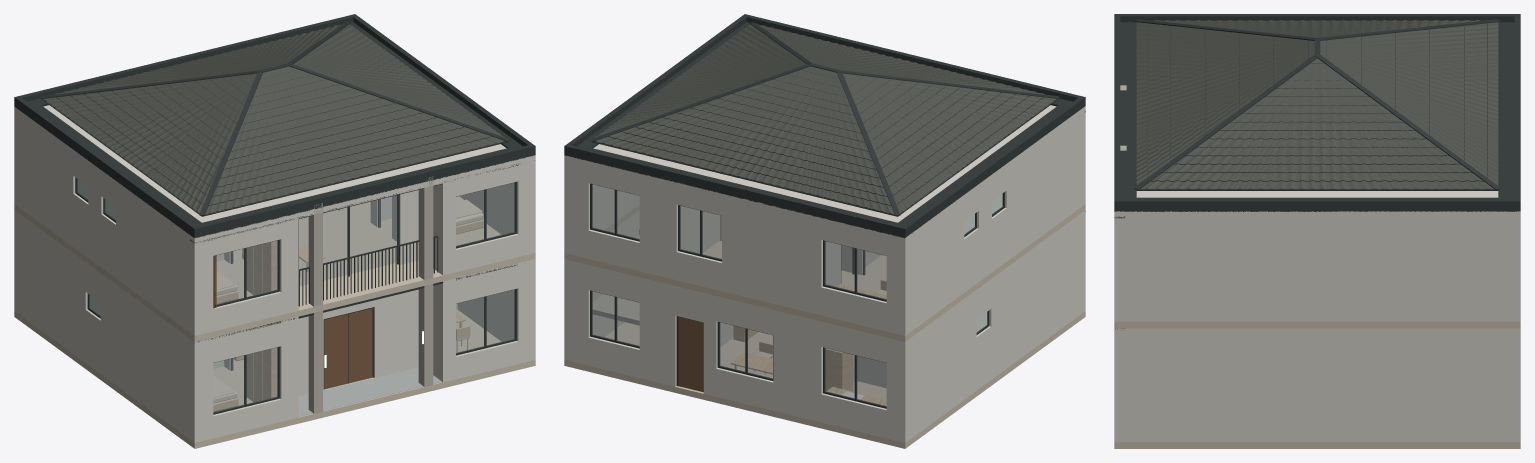
Rendered from house-option2-tiled.glb.
The picture shows the model from 3 angles, left to right: view 1: azimuth 30°, elevation 25°; view 2: azimuth 150°, elevation 25°; view 3: azimuth 270°, elevation 25°; orthographic projection. The views are drawn at different scales.
Parts seen in each view (by area): view 1: roof/mesh10/ceramic tile surface 1, roof/mesh11/ceramic tile surface 2, floor1/0515/left exterior, floor2/0001/upper slab west, floor2/0528/left exterior, floor1/0512/left exterior, roof/mesh12/ceramic tile surface 3, roof/0454/closed upper ceiling slab, floor2/0522/left exterior, floor1/0000/ground floor allowance, floor2/0197/D06 glass, roof/mesh9/ceramic tile surface 0 (+49 smaller); view 2: roof/mesh9/ceramic tile surface 0, roof/mesh11/ceramic tile surface 2, floor2/0146/rear exterior, floor1/0515/left exterior, floor2/0528/left exterior, floor1/0512/left exterior, roof/mesh12/ceramic tile surface 3, roof/0454/closed upper ceiling slab, floor1/0000/ground floor allowance, floor2/0522/left exterior, floor1/0073/rear exterior, roof/mesh10/ceramic tile surface 1 (+53 smaller); view 3: floor1/0069/right exterior, floor2/0142/right exterior, roof/mesh12/ceramic tile surface 3, roof/mesh9/ceramic tile surface 0, roof/mesh10/ceramic tile surface 1, roof/0458/inset eave fascia, roof/0454/closed upper ceiling slab, roof/mesh11/ceramic tile surface 2, roof/0459/perimeter gutter graphic allowance, roof/0460/perimeter gutter graphic allowance, floor1/0000/ground floor allowance, roof/0457/inset eave fascia (+10 smaller).
Boxes of the visible parts, box(x1,y1,x2,y2) form: roof/mesh10/ceramic tile surface 1: box(205, 66, 506, 215); roof/mesh11/ceramic tile surface 2: box(41, 73, 256, 213); floor1/0515/left exterior: box(100, 273, 201, 441); floor2/0001/upper slab west: box(14, 204, 433, 341); floor2/0528/left exterior: box(116, 186, 201, 334); floor1/0512/left exterior: box(15, 213, 87, 362); roof/mesh12/ceramic tile surface 3: box(293, 22, 504, 137); roof/0454/closed upper ceiling slab: box(14, 105, 535, 243); floor2/0522/left exterior: box(18, 115, 75, 246); floor1/0000/ground floor allowance: box(14, 309, 535, 448); floor2/0197/D06 glass: box(299, 195, 397, 286); roof/mesh9/ceramic tile surface 0: box(50, 24, 342, 95); roof/mesh9/ceramic tile surface 0: box(593, 66, 894, 215); roof/mesh11/ceramic tile surface 2: box(843, 73, 1058, 213); floor2/0146/rear exterior: box(722, 199, 822, 315); floor1/0515/left exterior: box(989, 213, 1081, 379); floor2/0528/left exterior: box(1005, 113, 1085, 261); floor1/0512/left exterior: box(898, 290, 976, 441); roof/mesh12/ceramic tile surface 3: box(595, 22, 806, 137); roof/0454/closed upper ceiling slab: box(564, 105, 1085, 243); floor1/0000/ground floor allowance: box(564, 311, 1085, 448); floor2/0522/left exterior: box(899, 201, 964, 332); floor1/0073/rear exterior: box(773, 310, 822, 422); roof/mesh10/ceramic tile surface 1: box(757, 24, 1049, 95); floor1/0069/right exterior: box(1114, 328, 1520, 442); floor2/0142/right exterior: box(1114, 218, 1520, 321); roof/mesh12/ceramic tile surface 3: box(1140, 58, 1494, 189); roof/mesh9/ceramic tile surface 0: box(1320, 20, 1498, 185); roof/mesh10/ceramic tile surface 1: box(1136, 20, 1314, 185); roof/0458/inset eave fascia: box(1120, 198, 1514, 211); roof/0454/closed upper ceiling slab: box(1114, 191, 1520, 217); roof/mesh11/ceramic tile surface 2: box(1147, 20, 1487, 37); roof/0459/perimeter gutter graphic allowance: box(1498, 22, 1514, 198); roof/0460/perimeter gutter graphic allowance: box(1120, 22, 1136, 198); floor1/0000/ground floor allowance: box(1114, 442, 1520, 448); roof/0457/inset eave fascia: box(1120, 14, 1514, 22).
Bounding box in the file's own units: 12 × 9.21 × 11.
Materials: 16 (1 with a texture image).
